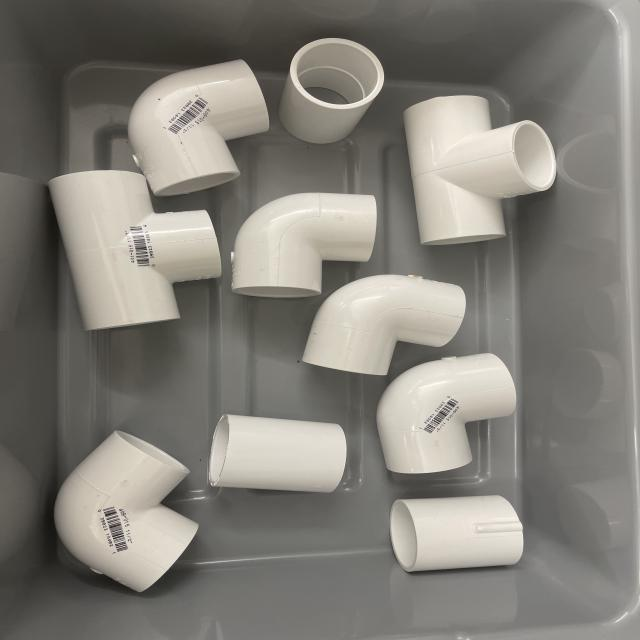L Joint: (53, 431, 199, 594), (128, 59, 269, 197), (376, 353, 516, 479), (302, 275, 467, 378), (231, 192, 380, 301)
T Joint: (45, 169, 217, 334), (401, 91, 557, 249)
